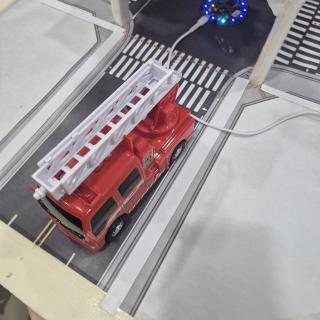Fire_truck: (30, 59, 194, 251)
